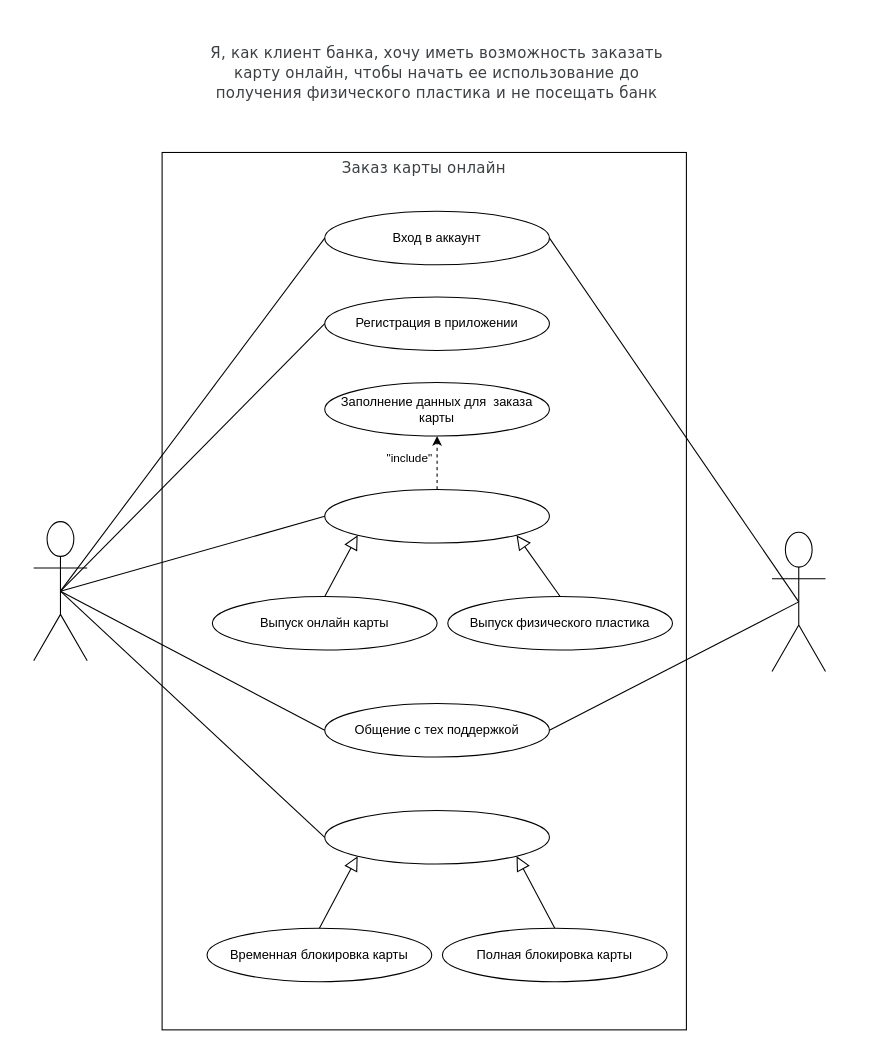
This 893x1049 diagram has some shape labels left out. Each missing label, with the centre of its shape:
"Блокировка карты" belongs at (436,836).
"Заказ карты" belongs at (436,515).
"Менеджер тех поддержки" belongs at (798,601).
"Пользователь" belongs at (60,591).
